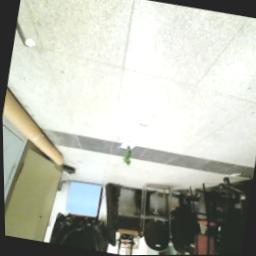herb: (121, 146, 135, 169)
